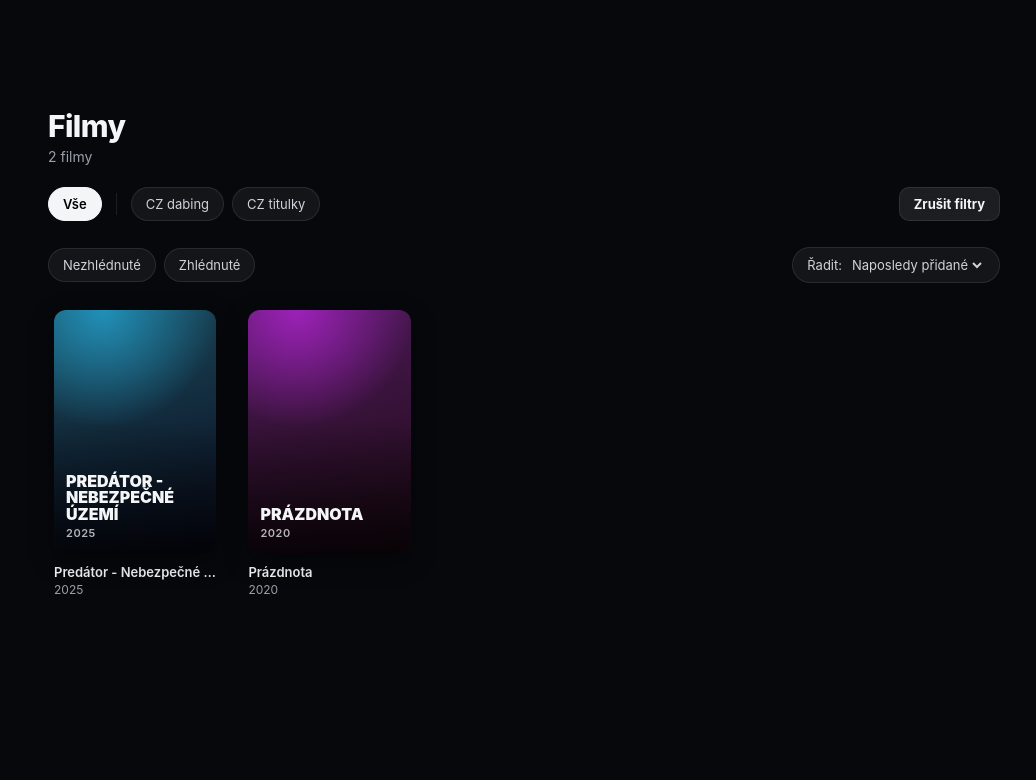
Test: BrowsePage › klik na plakát otevře detail
This screenshot has width=1036, height=780.
Click the button "Prázdnota 2020 Prázdnota 2020" at (330, 453), box [242,309,417,598]
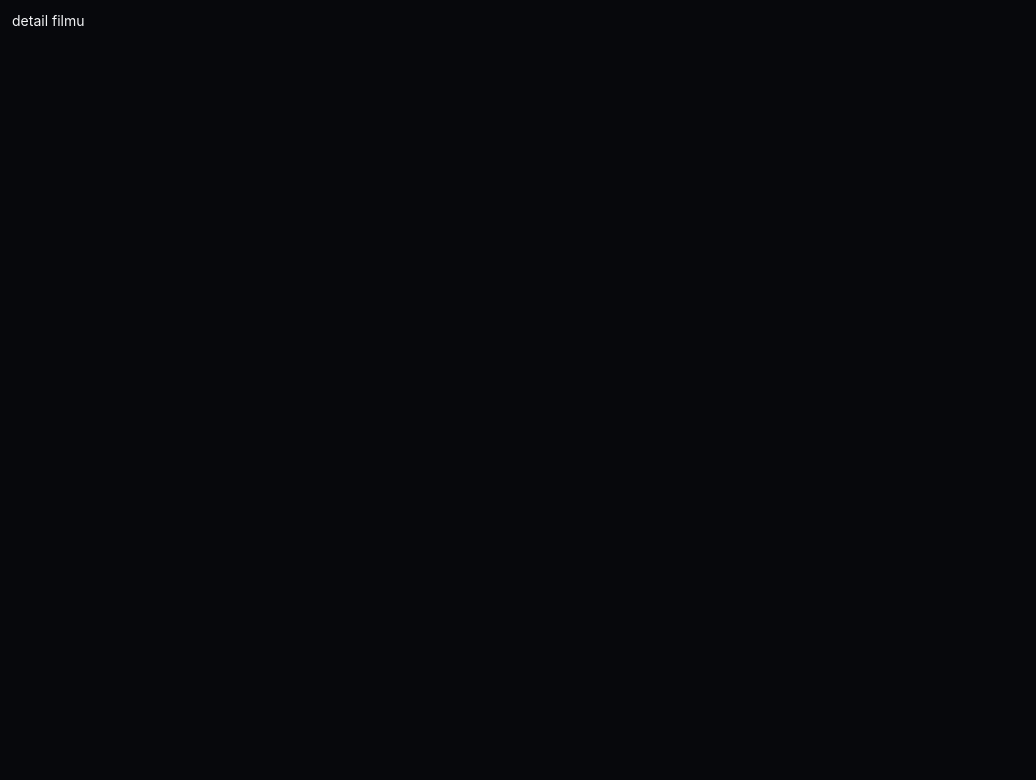
expect the text "detail filmu" is shown: met, box [12,12,84,29]
